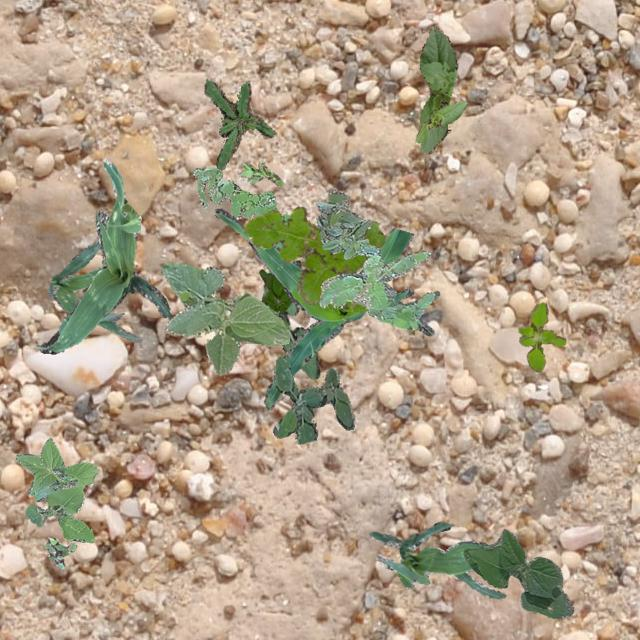crop: (212, 208, 432, 408), (34, 158, 170, 352), (160, 262, 288, 374), (368, 522, 504, 598), (462, 528, 572, 618), (46, 240, 140, 342), (262, 282, 318, 380), (418, 24, 456, 154), (414, 100, 466, 142)
weed: (240, 206, 384, 310), (318, 250, 438, 330), (14, 436, 98, 542), (192, 166, 290, 248), (272, 354, 354, 444), (203, 78, 274, 170), (316, 188, 380, 258), (518, 302, 564, 371), (258, 260, 300, 310), (238, 160, 282, 184), (44, 536, 76, 568)
